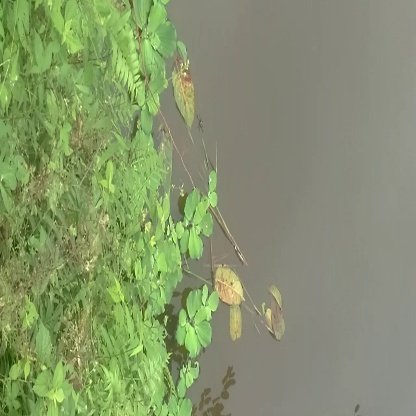leaf: (172, 56, 199, 130), (209, 260, 248, 305)
